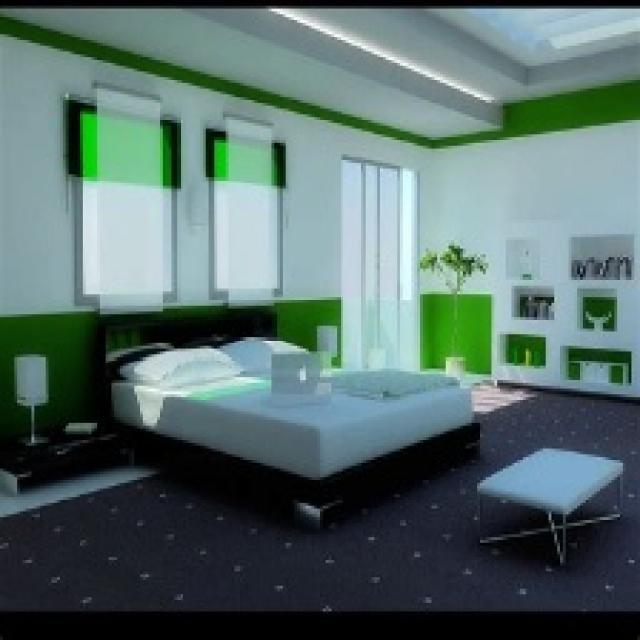Bed: (94, 308, 480, 528)
